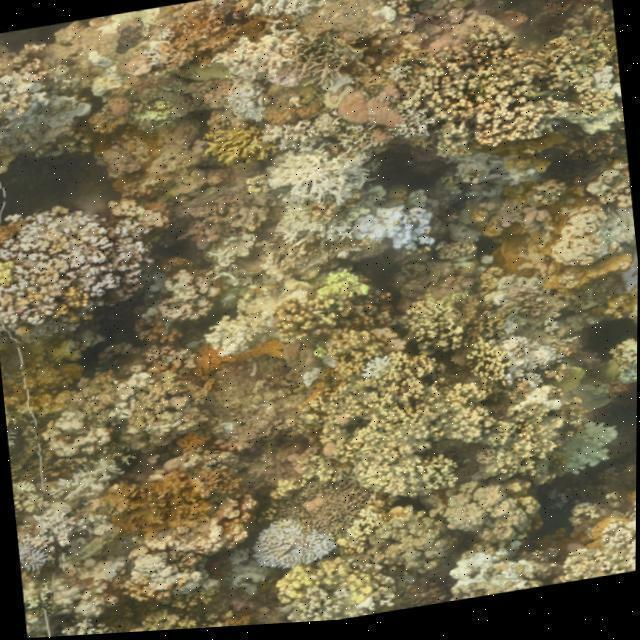Bleached Coral: (9, 196, 143, 308), (261, 127, 380, 222), (328, 190, 439, 275), (0, 52, 85, 154), (218, 22, 324, 103), (45, 446, 114, 557), (552, 400, 627, 491), (251, 512, 346, 581), (451, 537, 546, 606), (482, 326, 570, 398), (554, 208, 637, 273), (129, 541, 208, 604), (572, 514, 637, 587), (501, 373, 574, 433), (203, 310, 266, 373), (18, 528, 63, 576), (360, 352, 402, 396)
